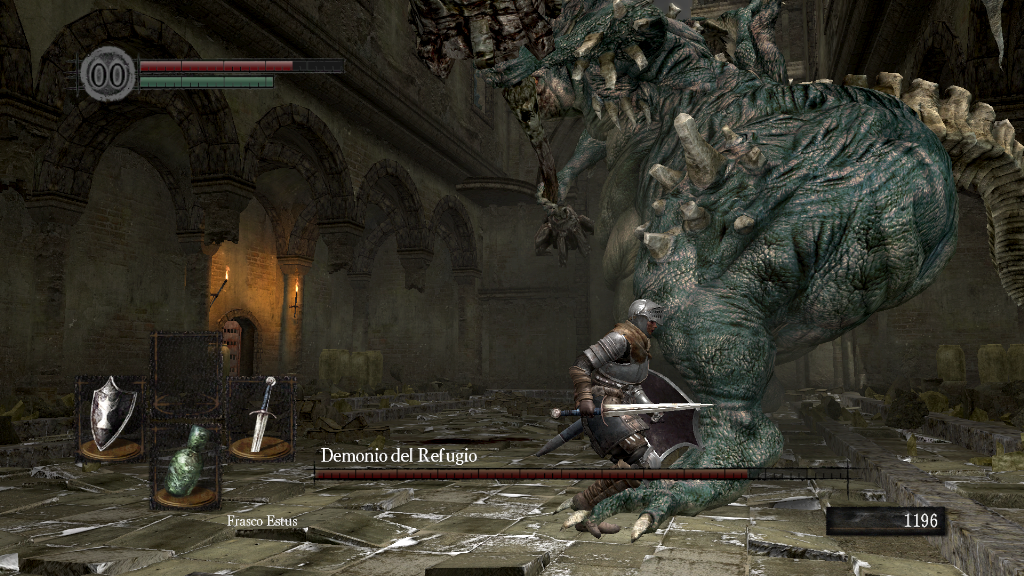asylumDemon: (408, 1, 1024, 542)
bossHP: (314, 469, 847, 479)
health: (138, 58, 343, 71)
humanity: (80, 45, 136, 102)
player: (568, 298, 707, 537)
souls: (825, 506, 945, 536)
stamina: (138, 74, 274, 88)
